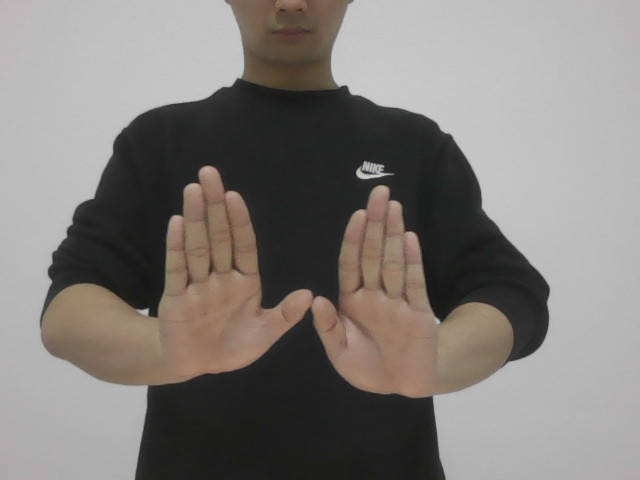door: (152, 160, 439, 412)
